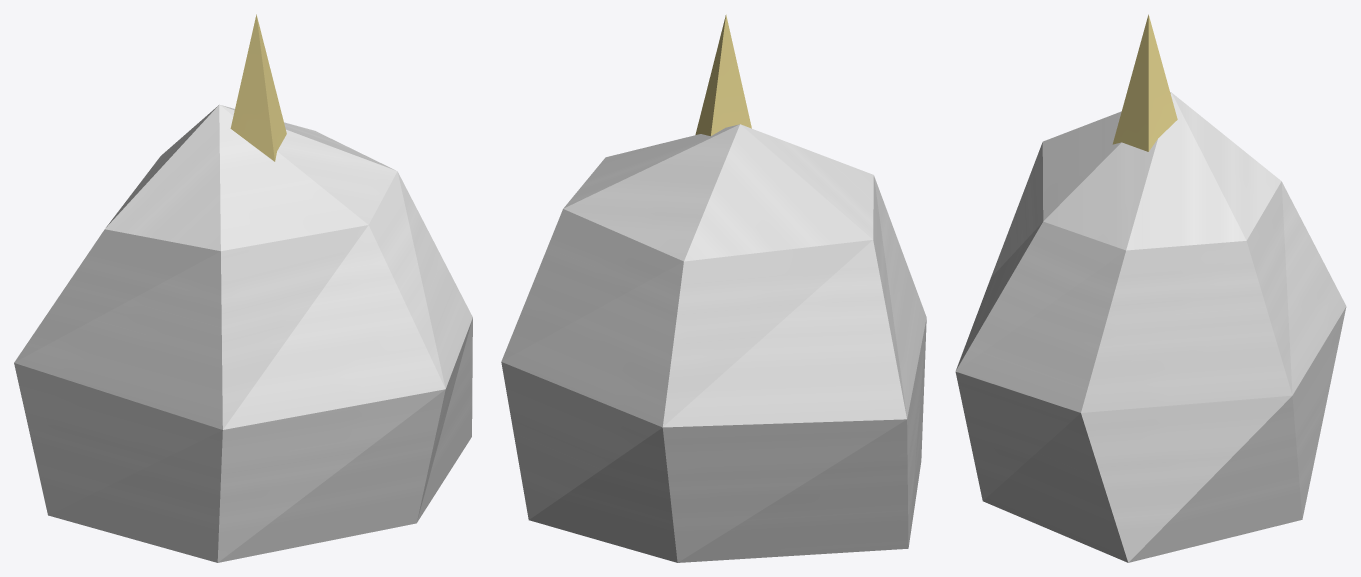
The model's file is item_artifact.obj.
3 views of the same model, side by side, from view 1: azimuth 30°, elevation 25°; view 2: azimuth 150°, elevation 25°; view 3: azimuth 270°, elevation 25° (orthographic). The views are drawn at different scales.
Parts seen in each view (by area): view 1: item_artifact; view 2: item_artifact; view 3: item_artifact.
Boxes of the visible parts, box(x1,y1,x2,y2) form: item_artifact: box(14, 14, 472, 562); item_artifact: box(501, 14, 926, 562); item_artifact: box(955, 14, 1346, 562).
Size of the model in its own units: 0.28 by 0.3 by 0.2353.
